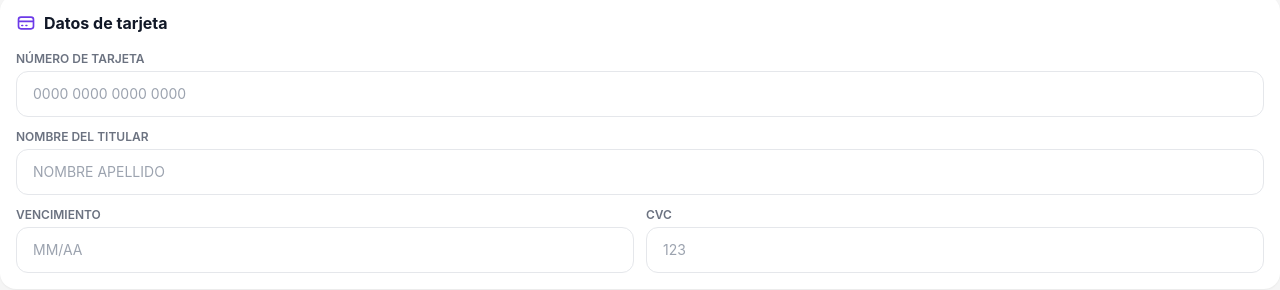
Scenario: CardForm › should show VISA logo when number starts with 4
The width and height of the screenshot is (1280, 290).
In the field with placeholder "0000 0000 0000 0000": {"x": 640, "y": 94} [16,71,1264,117], type "4242"
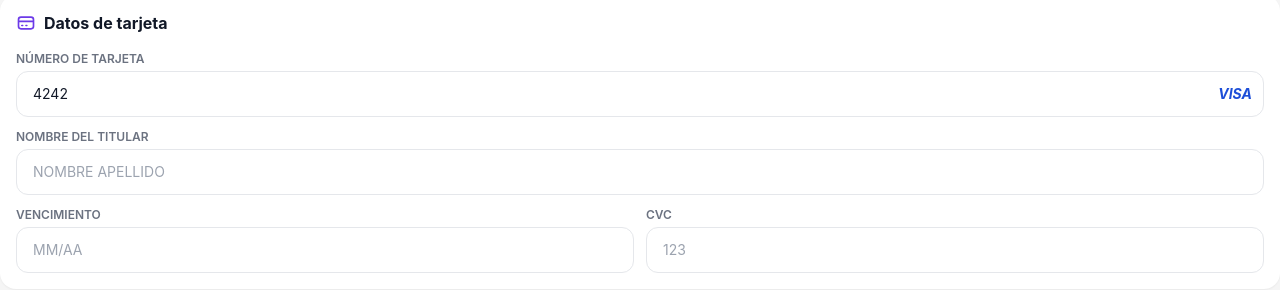
Expected: the text "VISA" is shown, [1218,84,1252,104]
